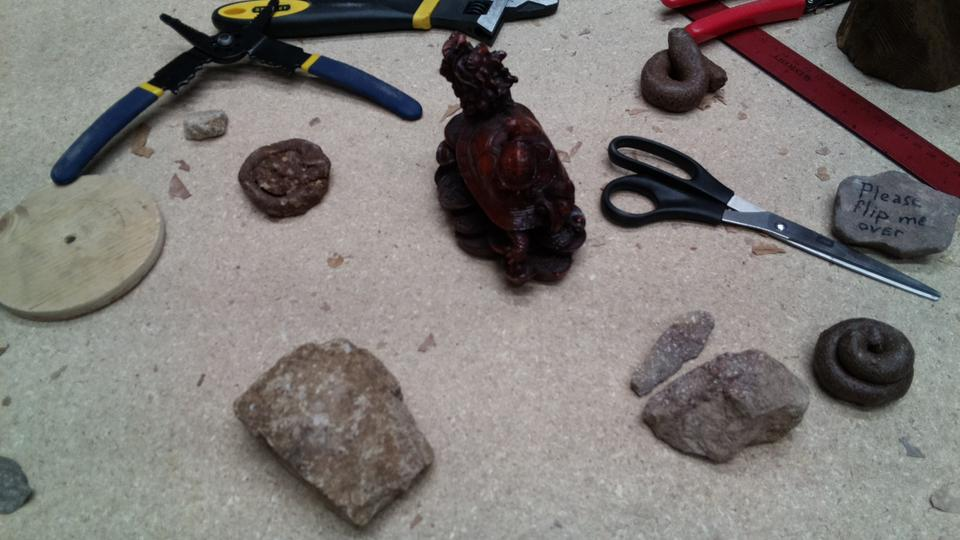poop: (809, 314, 917, 413), (234, 137, 336, 223), (637, 27, 728, 115)
